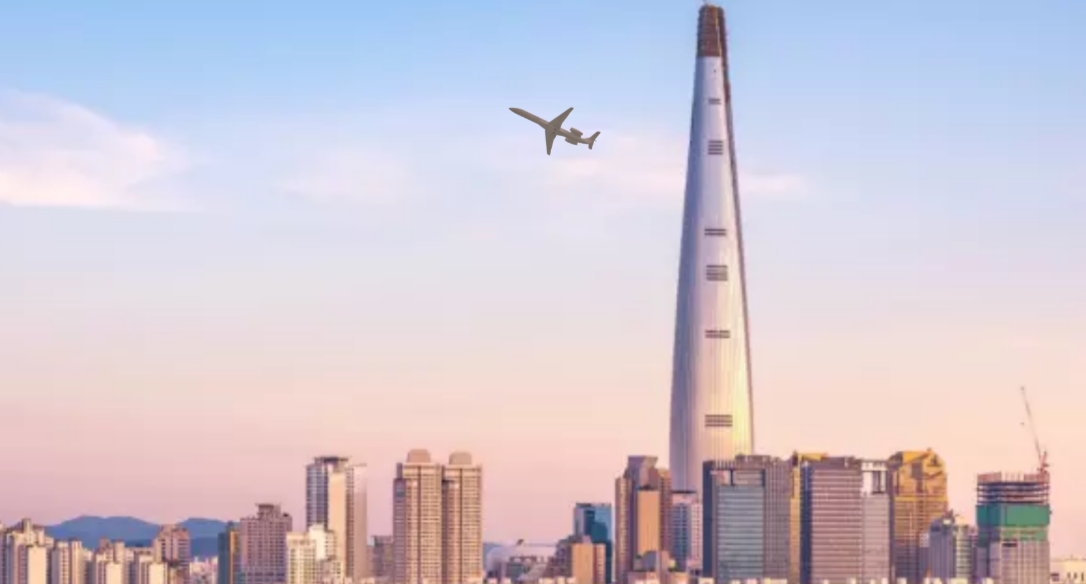military drone: (508, 106, 601, 155)
